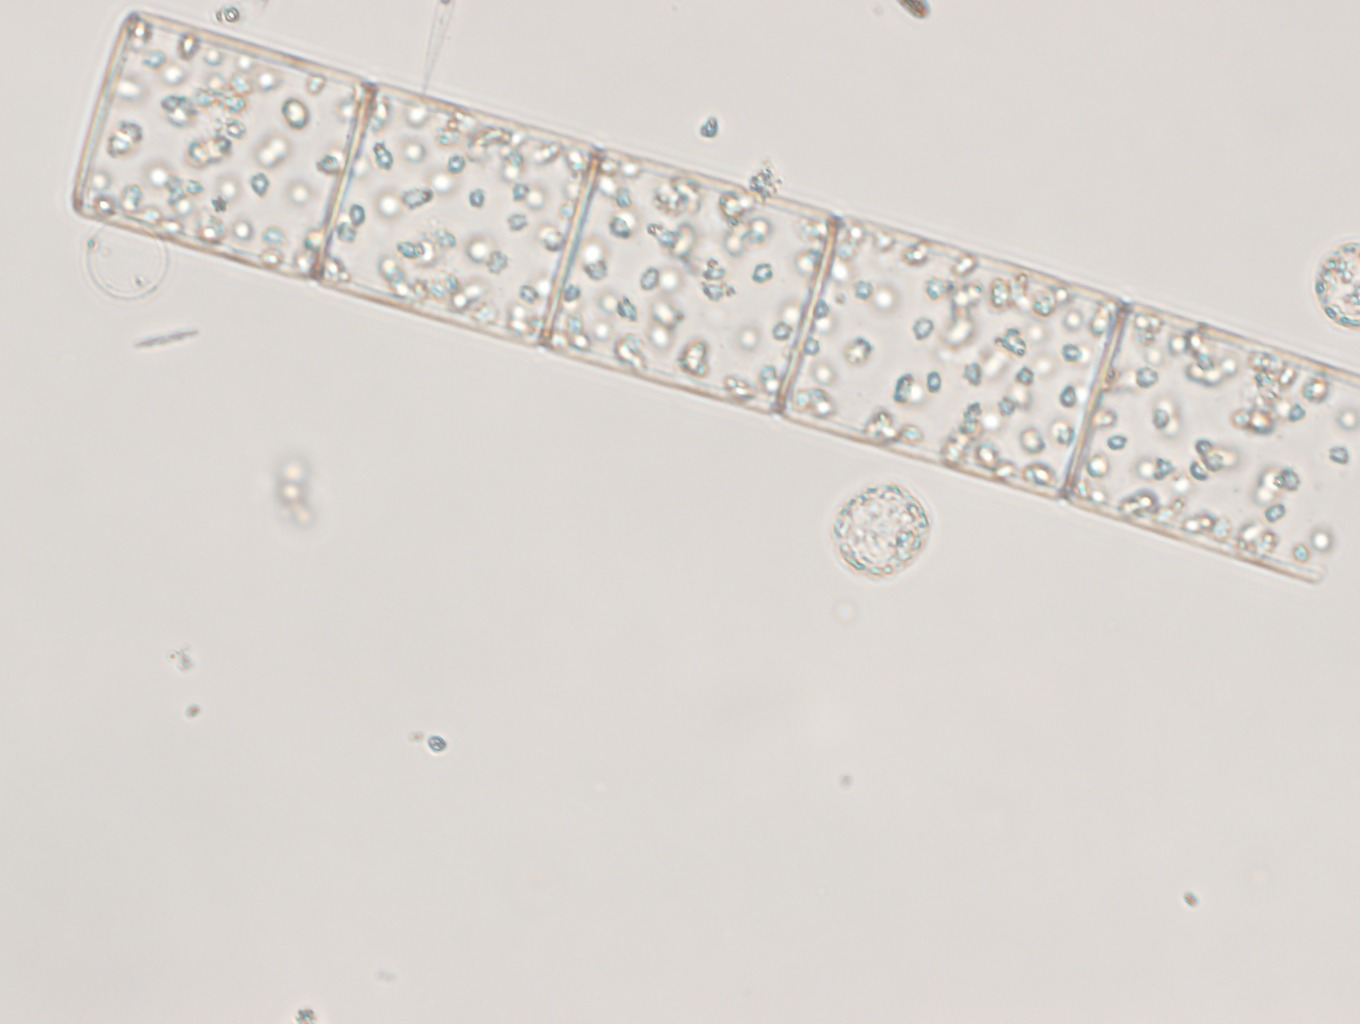guinardia flaccida: (68, 10, 1360, 585)
